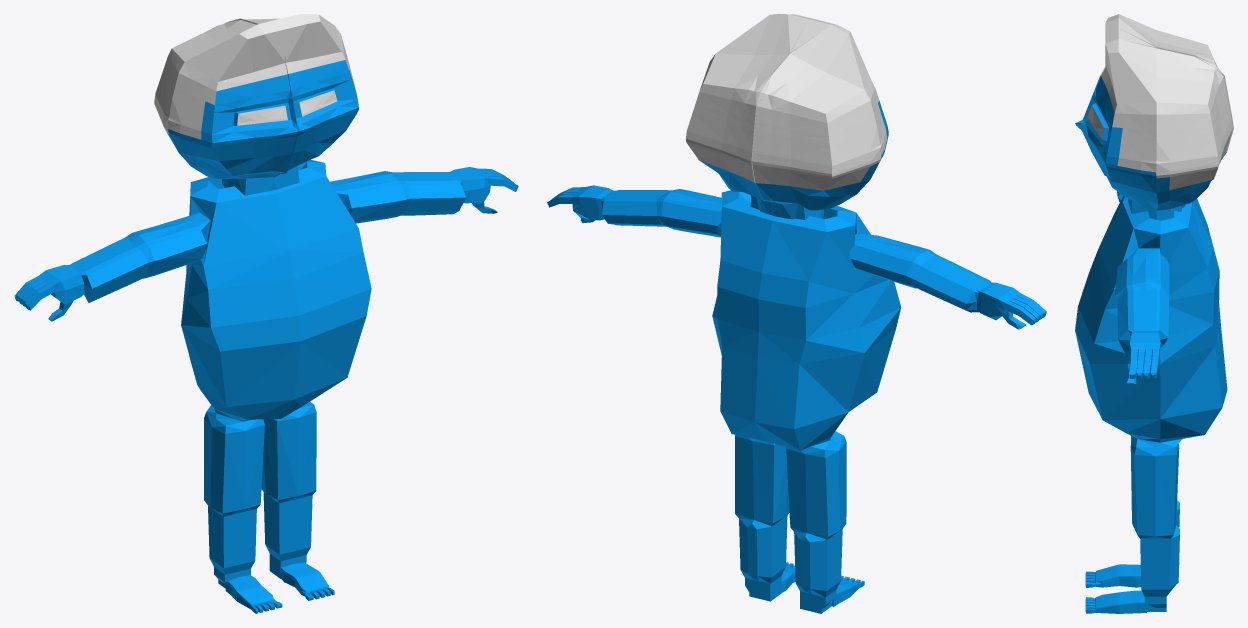
File: human-1-2.dae
The picture shows the model from 3 angles, left to right: view 1: azimuth 30°, elevation 25°; view 2: azimuth 150°, elevation 25°; view 3: azimuth 270°, elevation 25°; orthographic projection.
Parts seen in each view (by area): view 1: Cube.001; view 2: Cube.001; view 3: Cube.001.
Boxes of the visible parts, x1=… form: Cube.001: x1=14, y1=14, x2=518, y2=613; Cube.001: x1=547, y1=14, x2=1046, y2=613; Cube.001: x1=1075, y1=14, x2=1233, y2=613.
Bounding box in the file's own units: 10.93 × 3.1 × 12.2.
